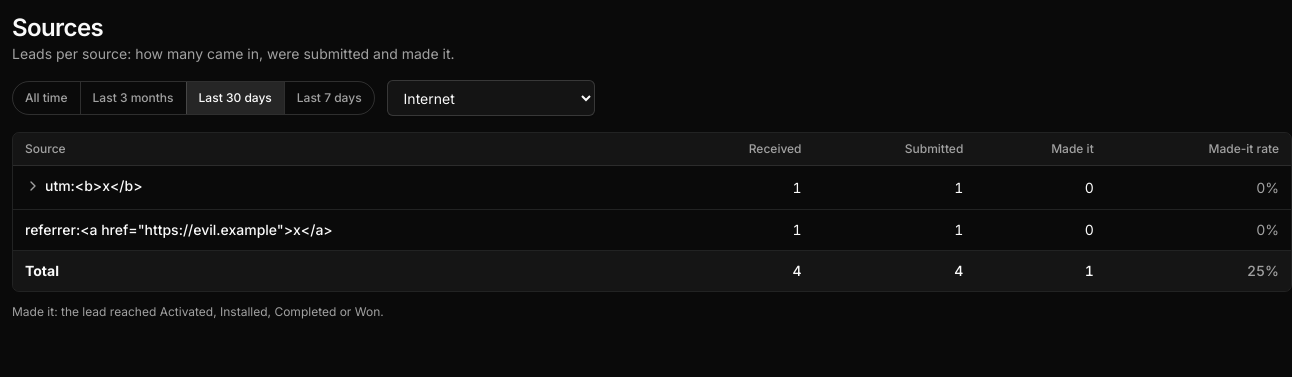
Test case: SourceReport › renders a source with markup as plain text
Expected: the table is shown, top-left (13, 133), bottom-right (1291, 291)
Click the button "utm:<b>x</b>". click: (84, 186)
box: top-left (25, 176), bottom-right (142, 196)
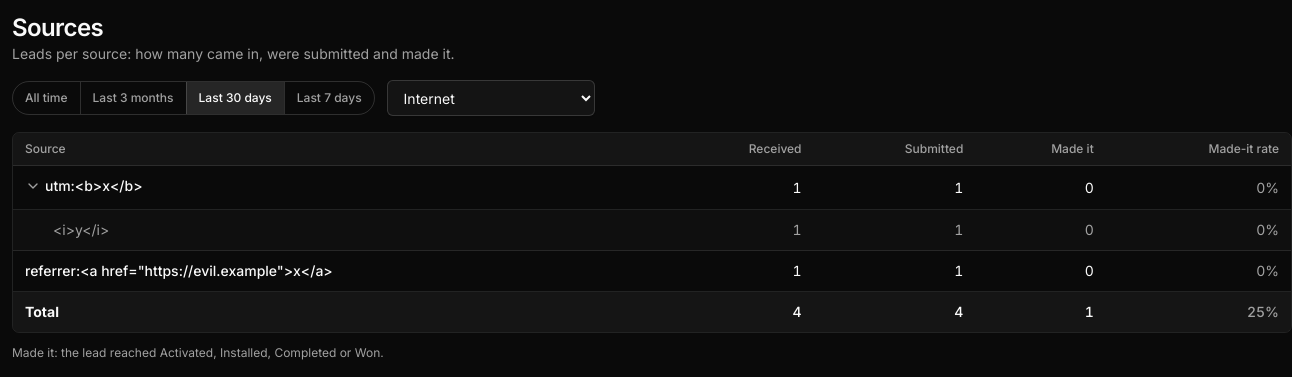
Expected: the column heading "referrer:<a href=\"https://evil.example\">x</a>" is shown, top-left (13, 250), bottom-right (663, 292)
Now the column heading "<i>y</i>" is shown, box top-left (13, 210), bottom-right (663, 250)
